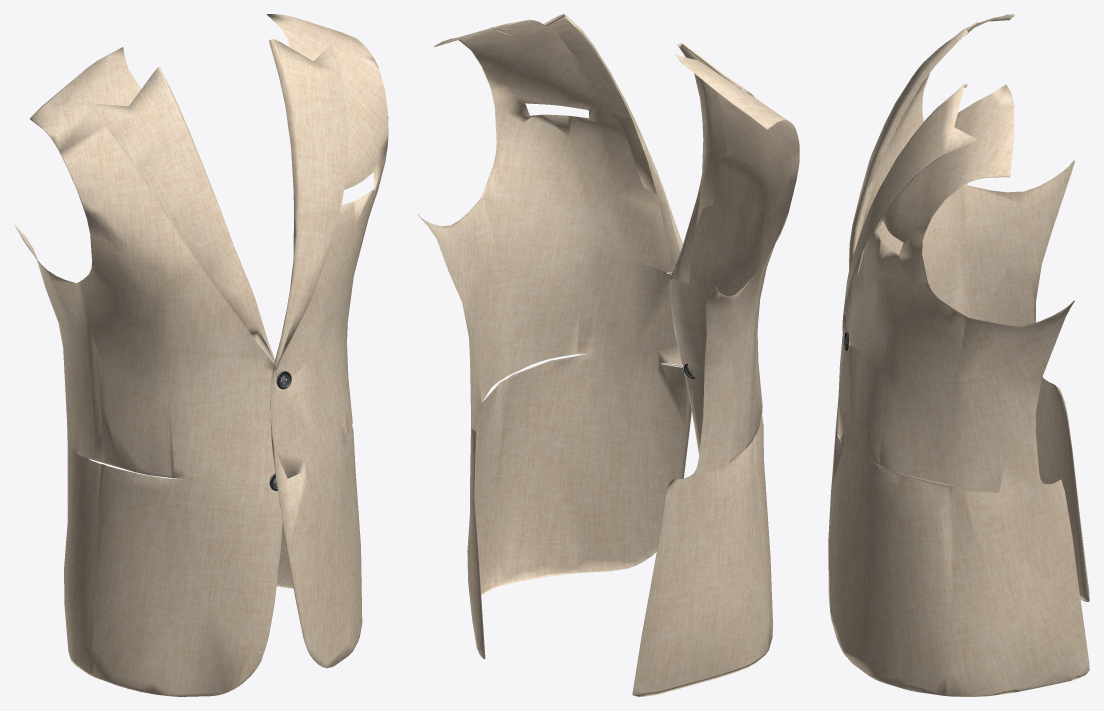
Rendered from peakdoublebutton_new.glb.
3 views of the same model, side by side, from view 1: azimuth 30°, elevation 25°; view 2: azimuth 150°, elevation 25°; view 3: azimuth 270°, elevation 25° (orthographic). The views are drawn at different scales.
Visible parts, largest first — view 1: Peak_Double_Button; view 2: Peak_Double_Button; view 3: Peak_Double_Button.
Part boxes in pixels (bbox=[...]): Peak_Double_Button: bbox=[15, 14, 388, 696]; Peak_Double_Button: bbox=[417, 14, 799, 696]; Peak_Double_Button: bbox=[828, 14, 1089, 696].
Bounding box in the file's own units: 0.0585 × 0.1024 × 0.0411.
4 materials, 3 textured.
